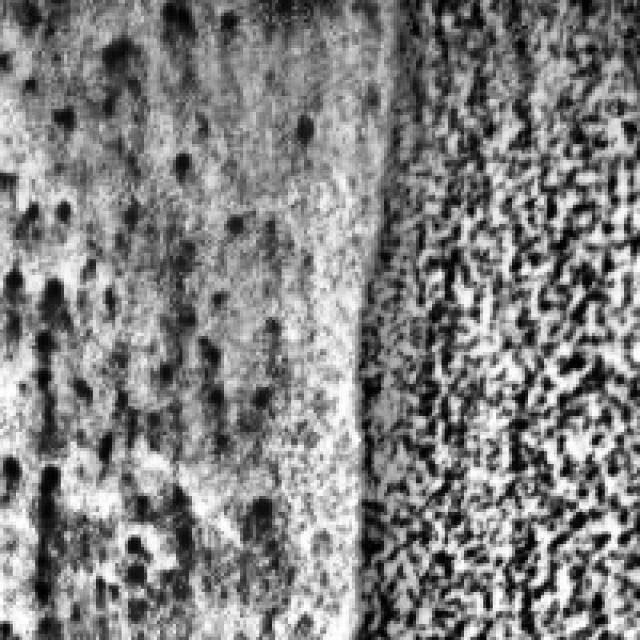Rolled_in_Scale: (355, 0, 633, 630), (0, 3, 272, 614)
